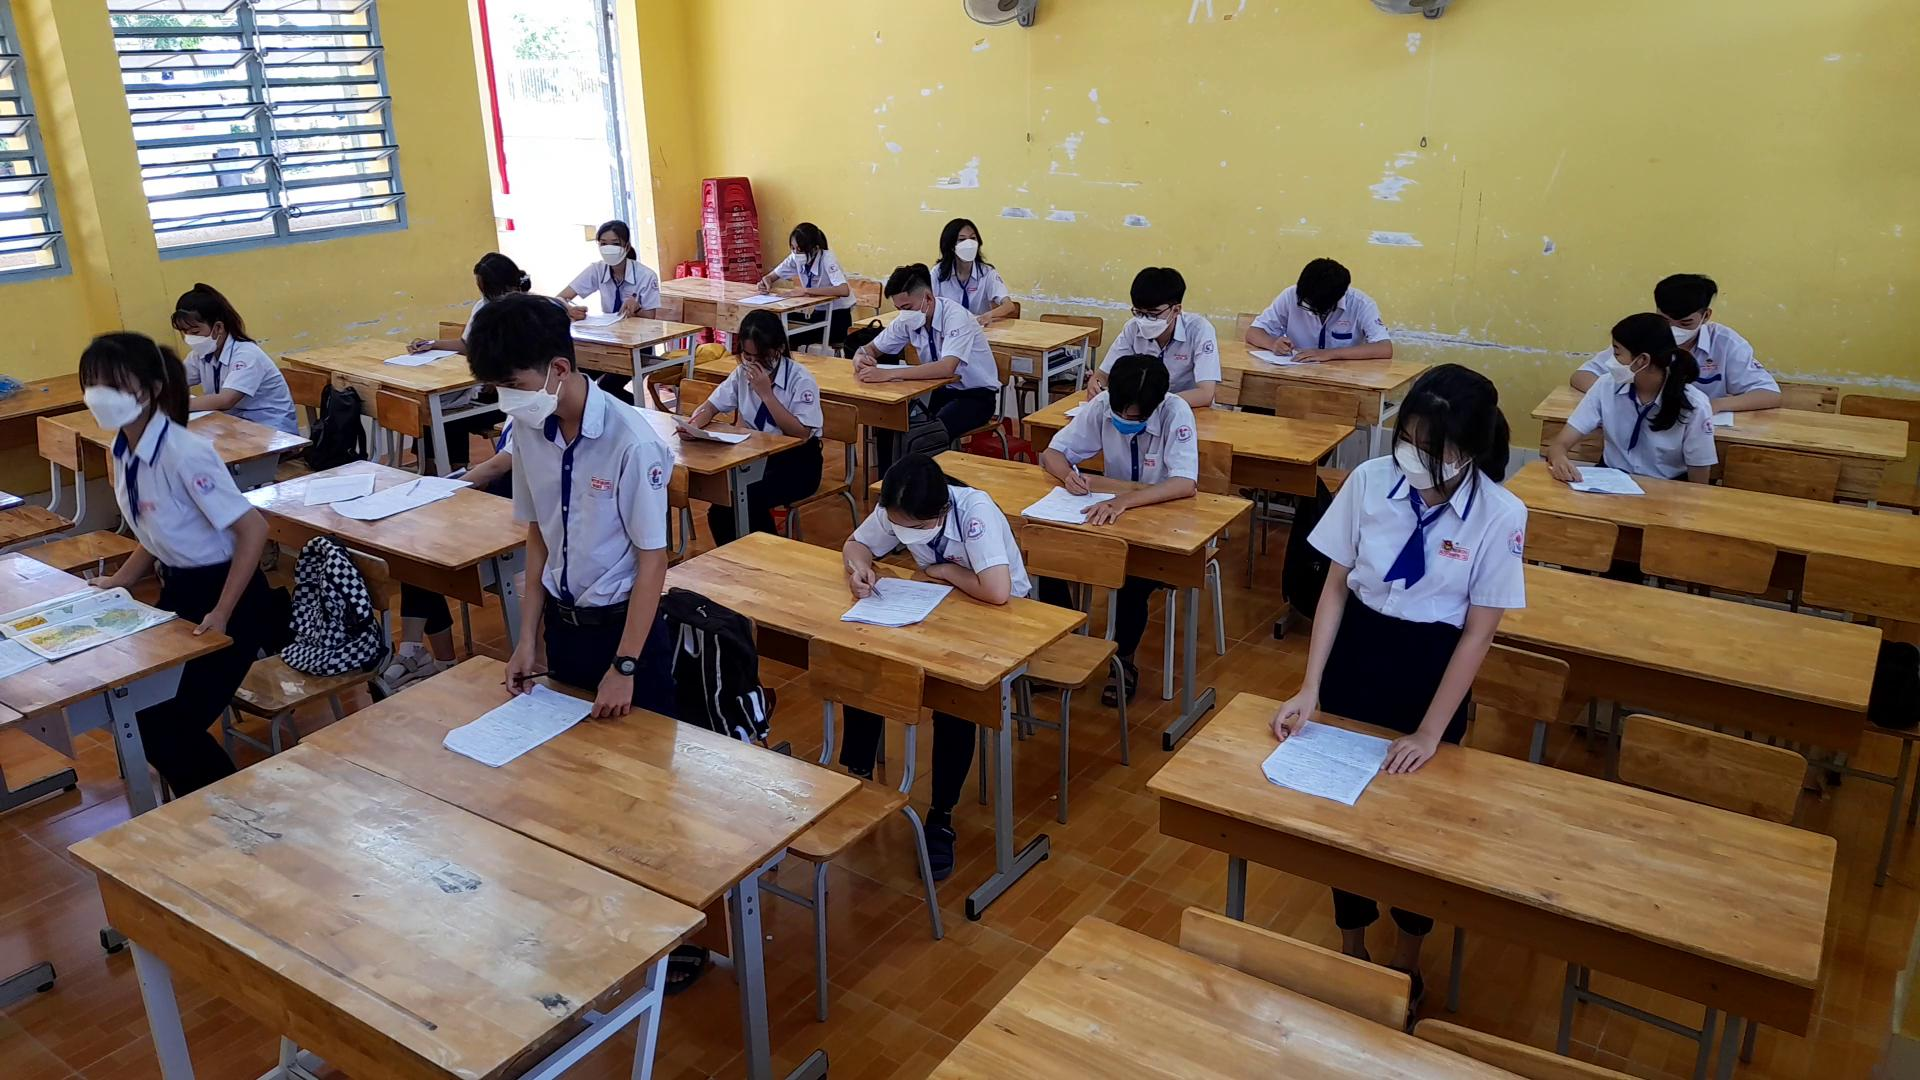Hand Under Table: (1680, 382, 1725, 496)
Look Around: (1586, 307, 1683, 392)
Normal: (831, 448, 1034, 609), (1034, 342, 1205, 524), (157, 280, 306, 434), (1241, 240, 1398, 373), (840, 257, 986, 392), (539, 215, 663, 328), (741, 204, 864, 316)
Stand Up: (1269, 353, 1532, 778), (448, 289, 686, 721)
Wave: (738, 359, 825, 440)
